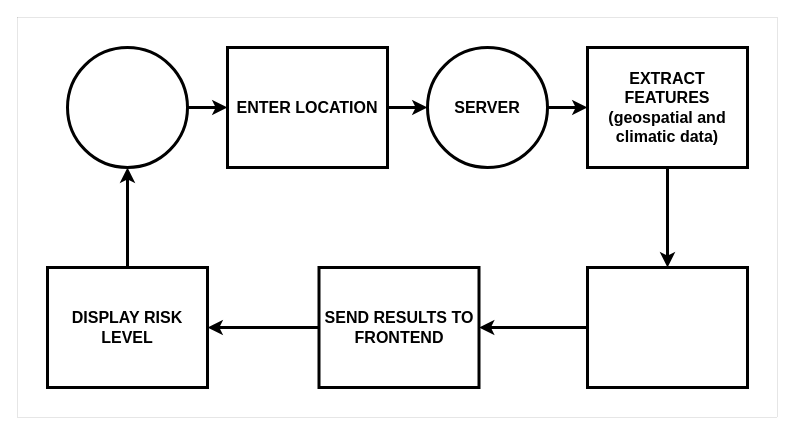
Image size: 794x434. Some labels were removed from this diagram. Here are the shapes that lost their labels. From the top down, the centre of each, then its label:
At (x=127, y=107): "USER".
At (x=667, y=327): "RUN PREDICTION (Random Forest)".
